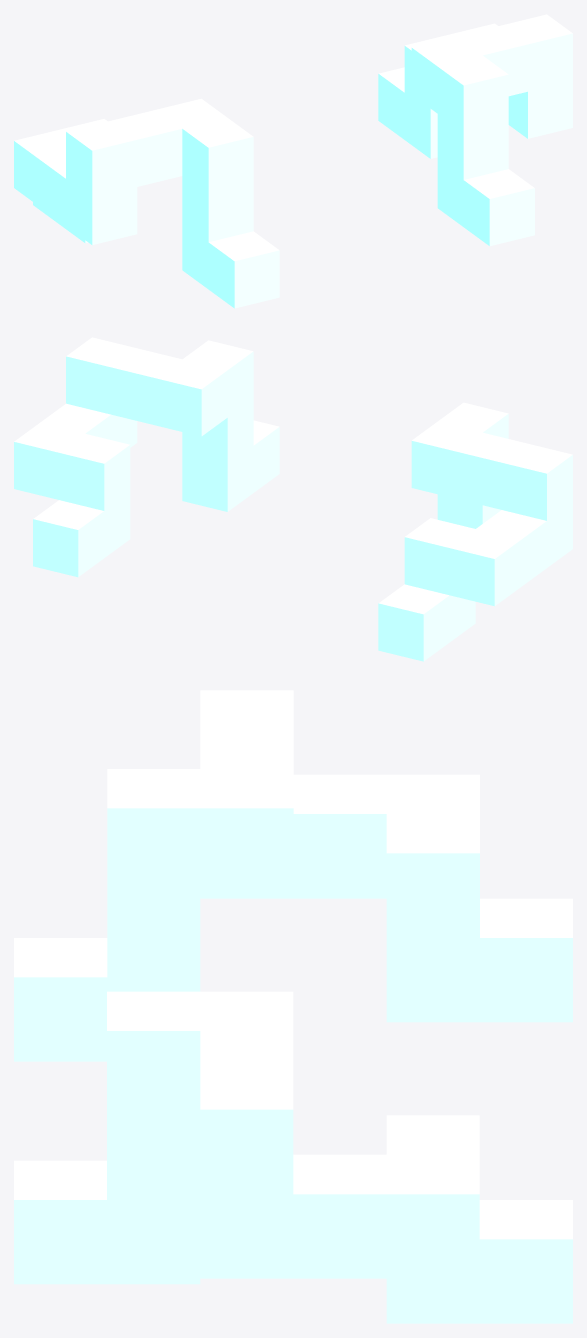
Rendered from horn-1.1.glb.
3 renders of one model, top to bottom at view 1: azimuth 30°, elevation 25°; view 2: azimuth 150°, elevation 25°; view 3: azimuth 270°, elevation 25°, orthographic. The views are drawn at different scales.
Visible parts, largest first — view 1: Cube.014; view 2: Cube.014; view 3: Cube.014.
Part boxes in pixels (bbox=[...]): Cube.014: bbox=[14, 14, 572, 308]; Cube.014: bbox=[14, 337, 572, 661]; Cube.014: bbox=[14, 690, 572, 1323].
Size of the model in its own units: 2.13 by 0.6 by 1.2.
